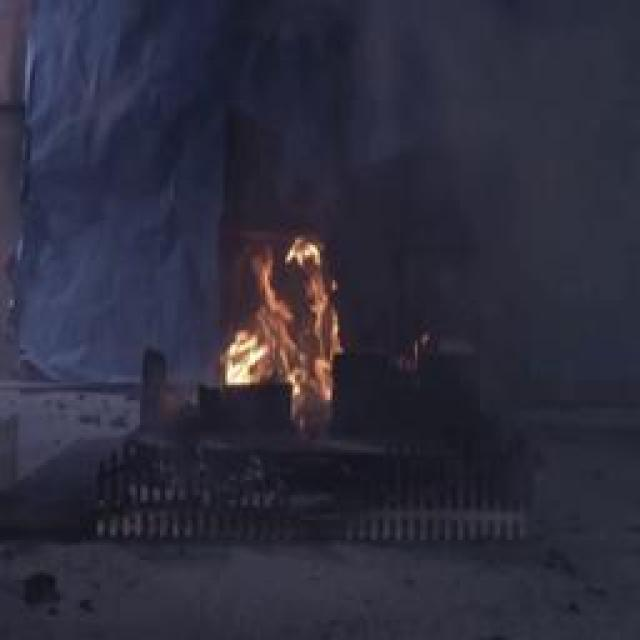Fire: (249, 229, 351, 411), (225, 332, 265, 385)
Smoke: (369, 29, 640, 342)
